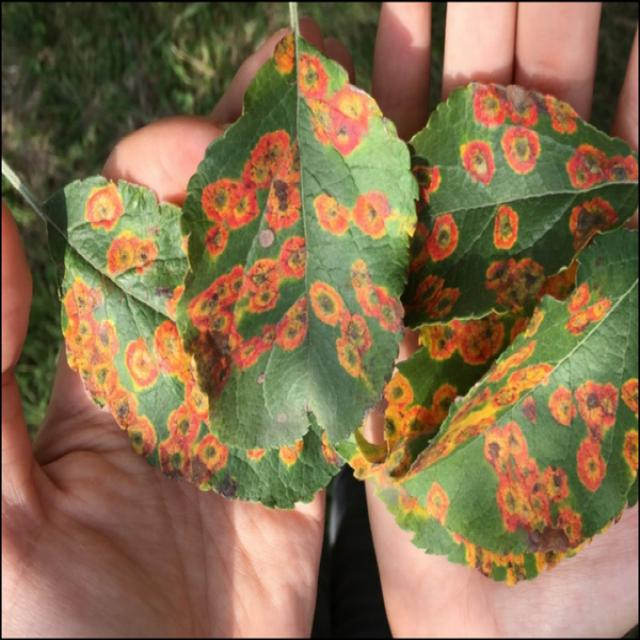Gymnosporangium_Rusts: (52, 22, 639, 584)
